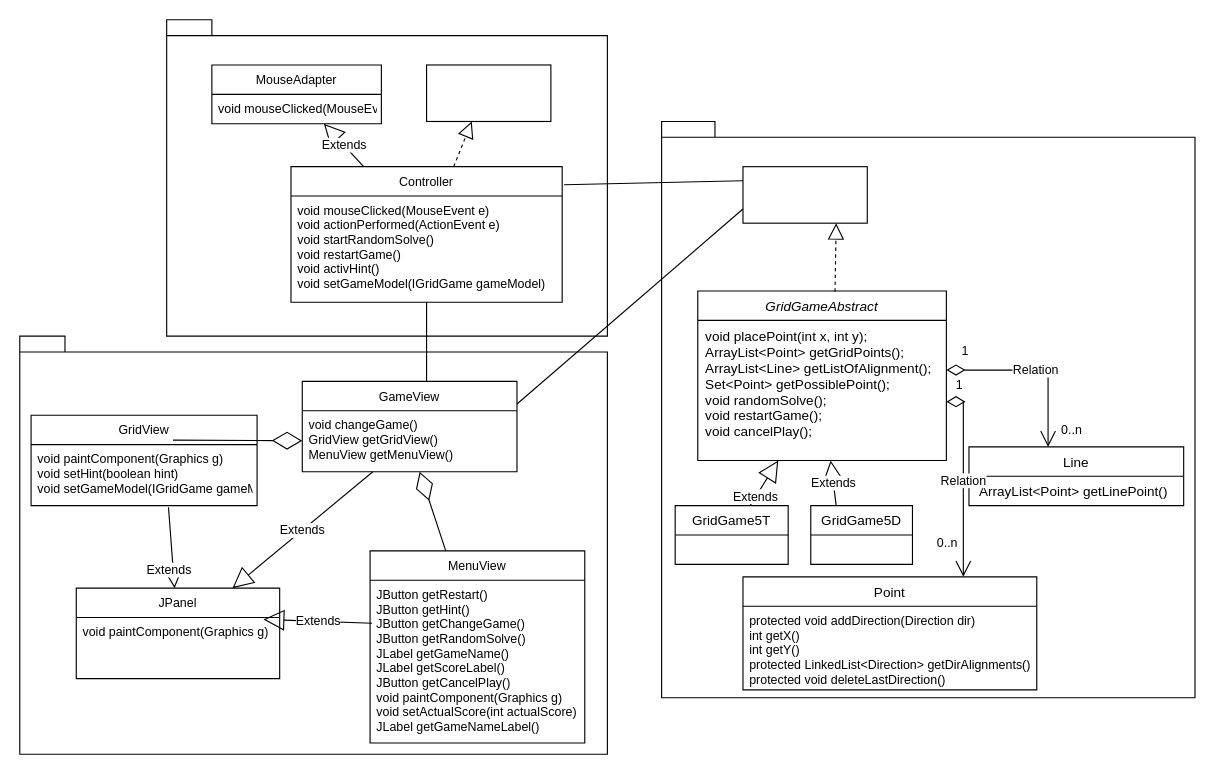
Some shapes in this 1215 by 774 pixel diagram are drawn without their labels. Here are the shapes that lost their labels. From the top down, the centre of each, then its label:
At (x=488, y=92): "«interface» ActionListener".
At (x=804, y=194): "«interface» IGridGame".
